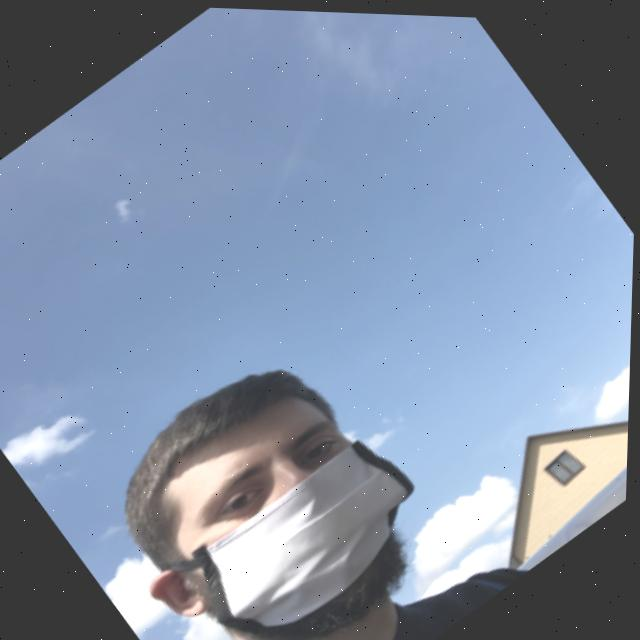Mask: (130, 384, 477, 640)
